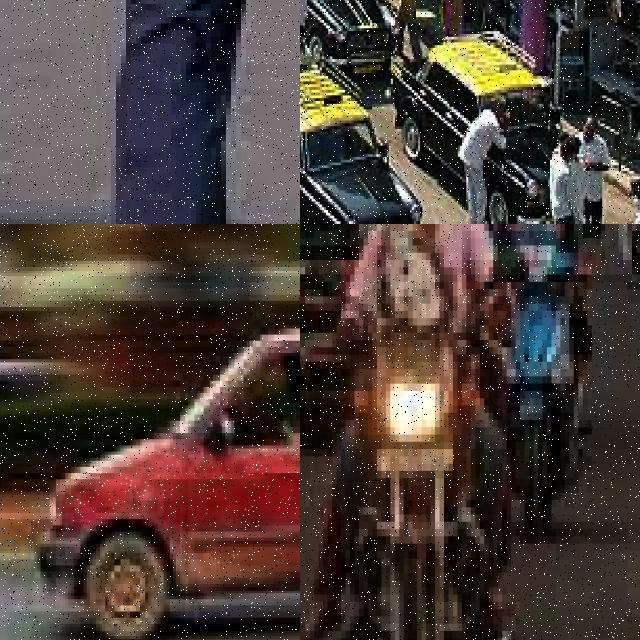bike: (332, 311, 488, 640), (506, 224, 591, 536)
car: (42, 231, 300, 640)
